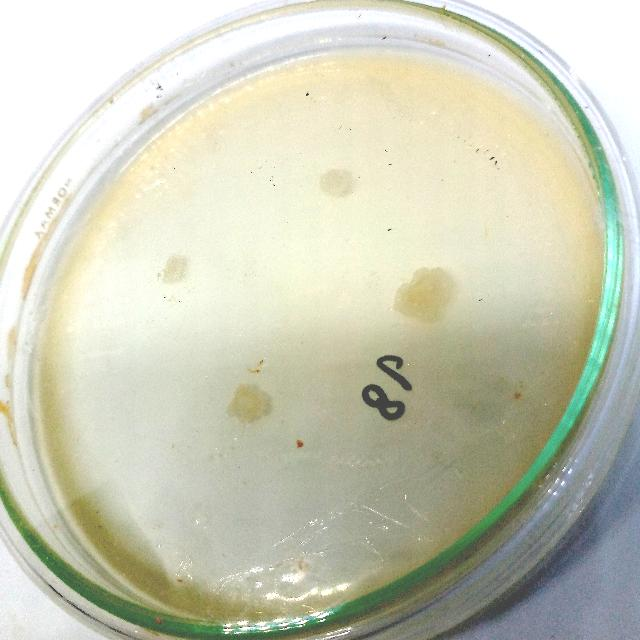colony: (383, 258, 463, 334), (219, 376, 279, 434), (314, 158, 361, 206), (150, 250, 194, 292)
